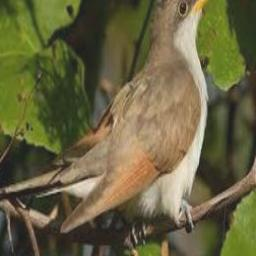Cuckoo: (57, 0, 219, 233)
